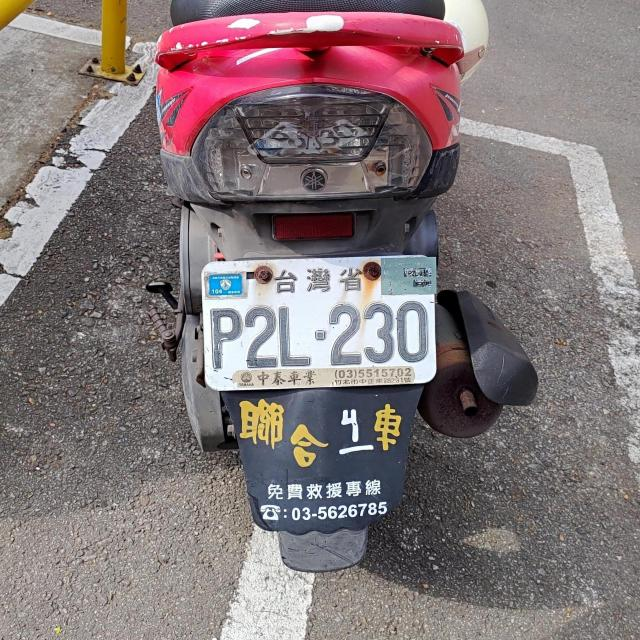W: (196, 253, 436, 389)
